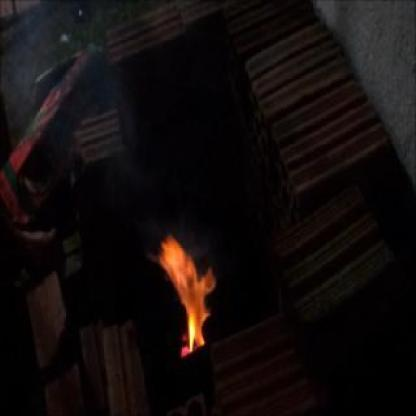Fire: (162, 231, 212, 360)
